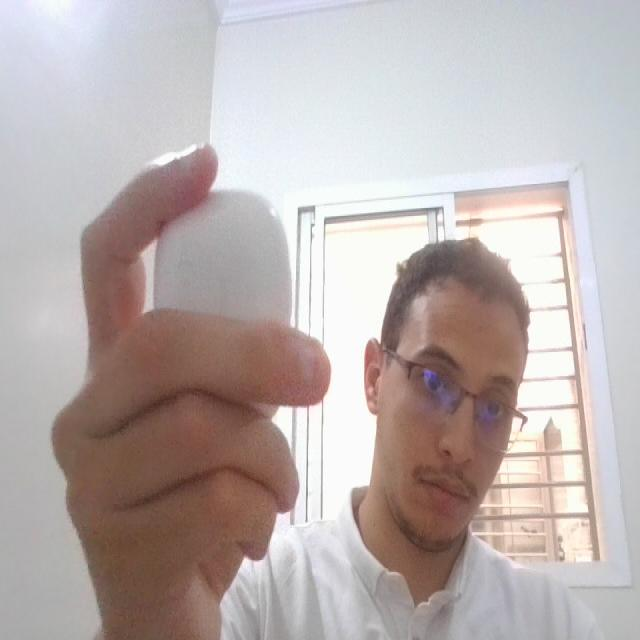airpods: (153, 180, 296, 398)
